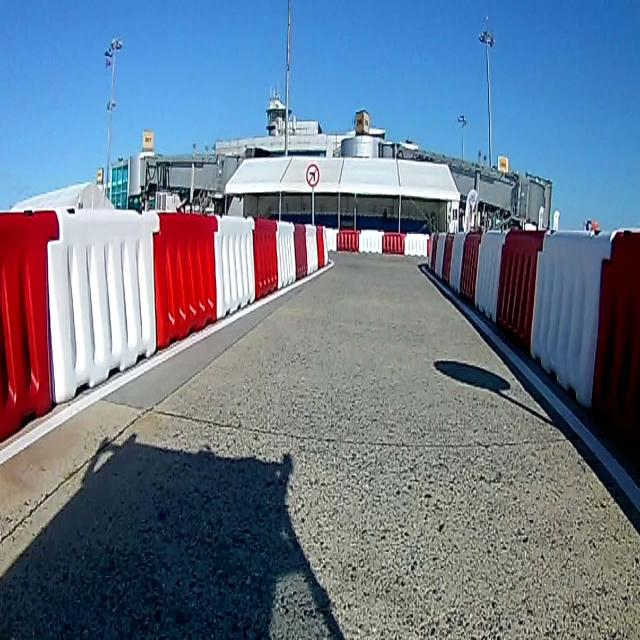soladonulmez: (307, 165, 319, 186)
